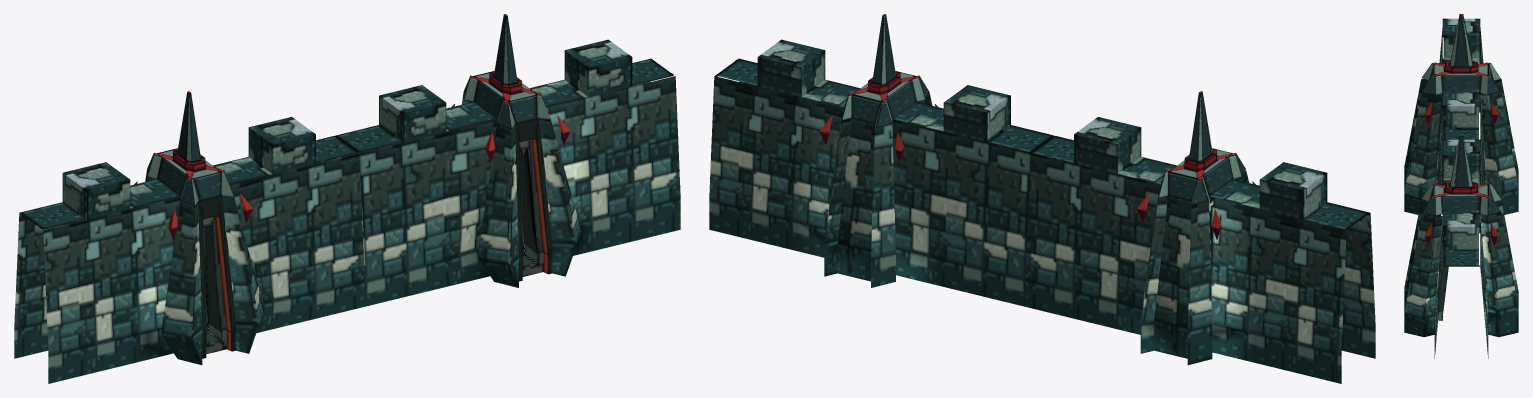
The model's file is B_Tower_Wall.fbx.
3 renders of one model, left to right at view 1: azimuth 30°, elevation 25°; view 2: azimuth 150°, elevation 25°; view 3: azimuth 270°, elevation 25°, orthographic. The views are drawn at different scales.
Parts seen in each view (by area): view 1: B_Tower_Wall; view 2: B_Tower_Wall; view 3: B_Tower_Wall.
Boxes of the visible parts, x1,y1,x2,y2 form: B_Tower_Wall: (14, 14, 680, 383); B_Tower_Wall: (709, 14, 1375, 383); B_Tower_Wall: (1404, 14, 1518, 358).
Bounding box in the file's own units: 319 × 117 × 63.95.
1 material, 1 textured.
